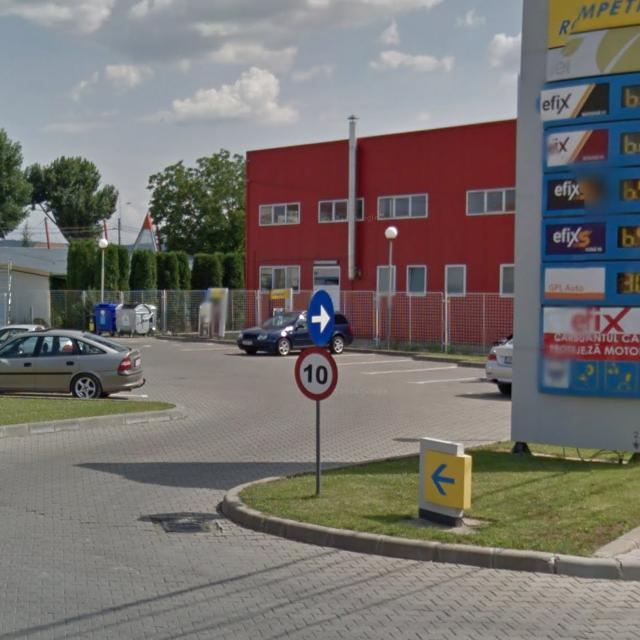forb_speed_over_10: (294, 346, 338, 400)
mand_pass_right: (306, 289, 336, 347)
